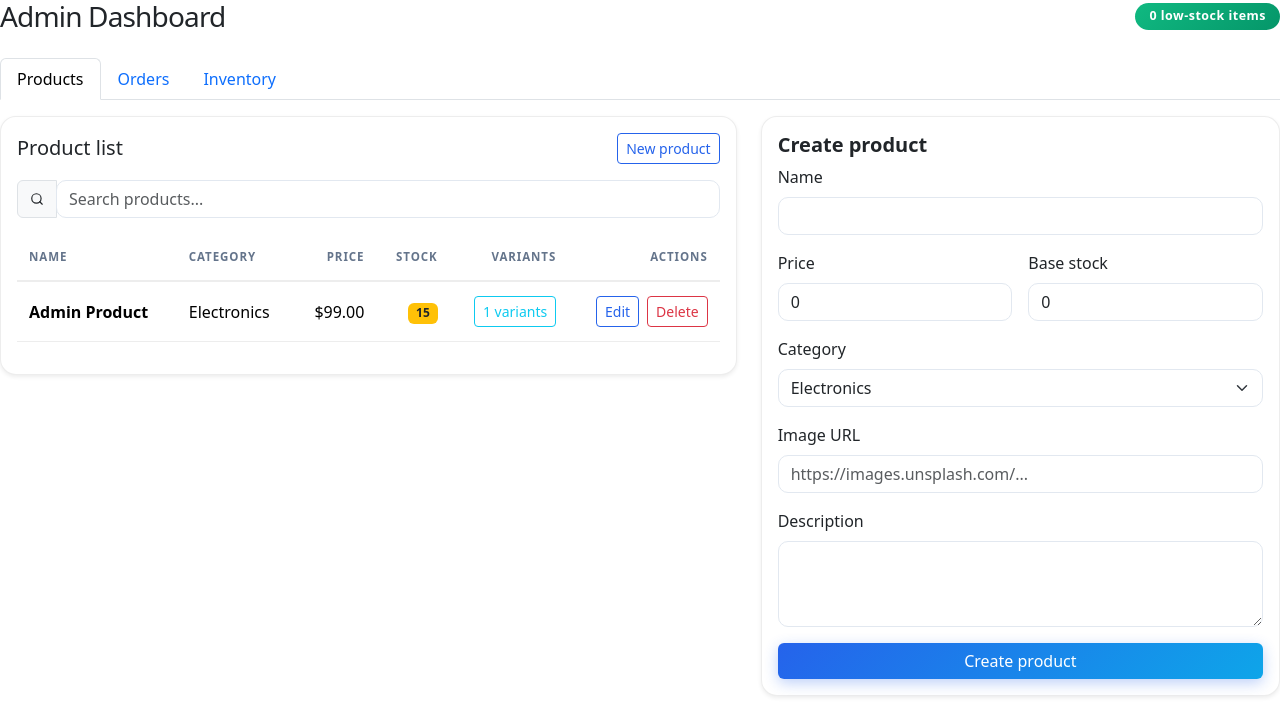
Test case: AdminDashboardPage › VariantManagerModal shows existing variants table when product has variants
Click the button with aria-label "manage variants for admin product": click(515, 312) top-left (474, 296), bottom-right (556, 327)
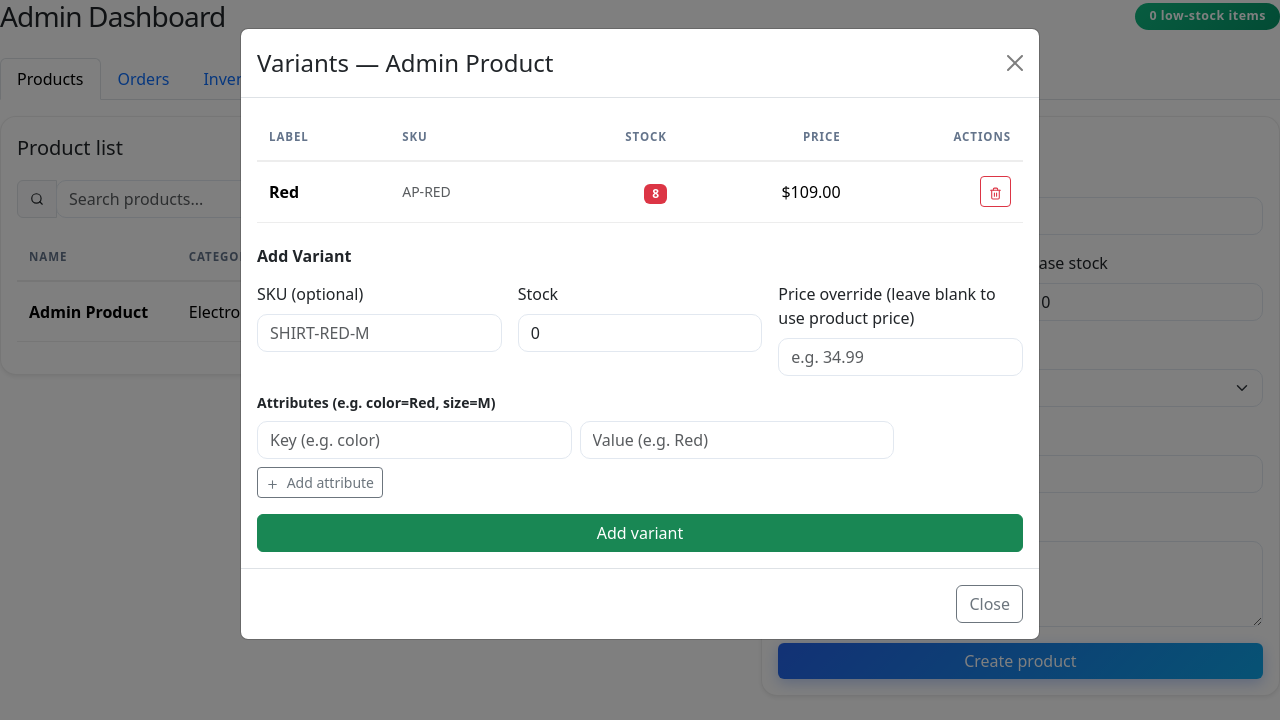
Result: the text "Red" is shown at top-left (257, 161), bottom-right (390, 222)
Result: the text "AP-RED" is shown at top-left (390, 161), bottom-right (542, 222)
